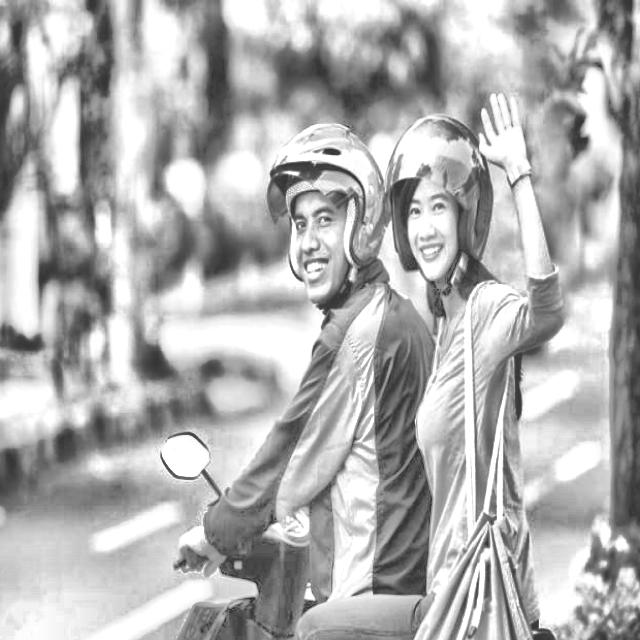Helmet: (258, 113, 391, 315), (382, 106, 497, 302)
